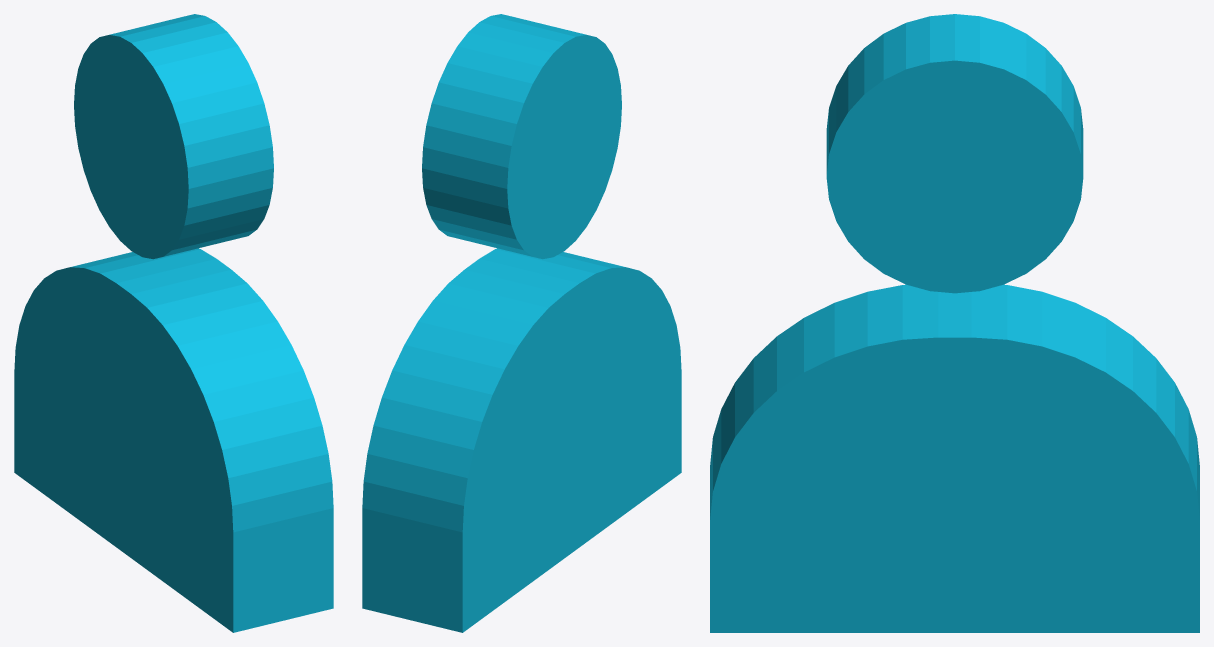
The model's file is aboutme_3dicon.gltf.
3 renders of one model, left to right at view 1: azimuth 30°, elevation 25°; view 2: azimuth 150°, elevation 25°; view 3: azimuth 270°, elevation 25°, orthographic. The views are drawn at different scales.
Visible parts, largest first — view 1: Cube.001; view 2: Cube.001; view 3: Cube.001.
Part boxes in pixels (x1,y1,x2,y2): Cube.001: (14,14,333,632); Cube.001: (362,14,681,632); Cube.001: (710,14,1199,632).
Size of the model in its own units: 0.598 by 2.89 by 2.26.
